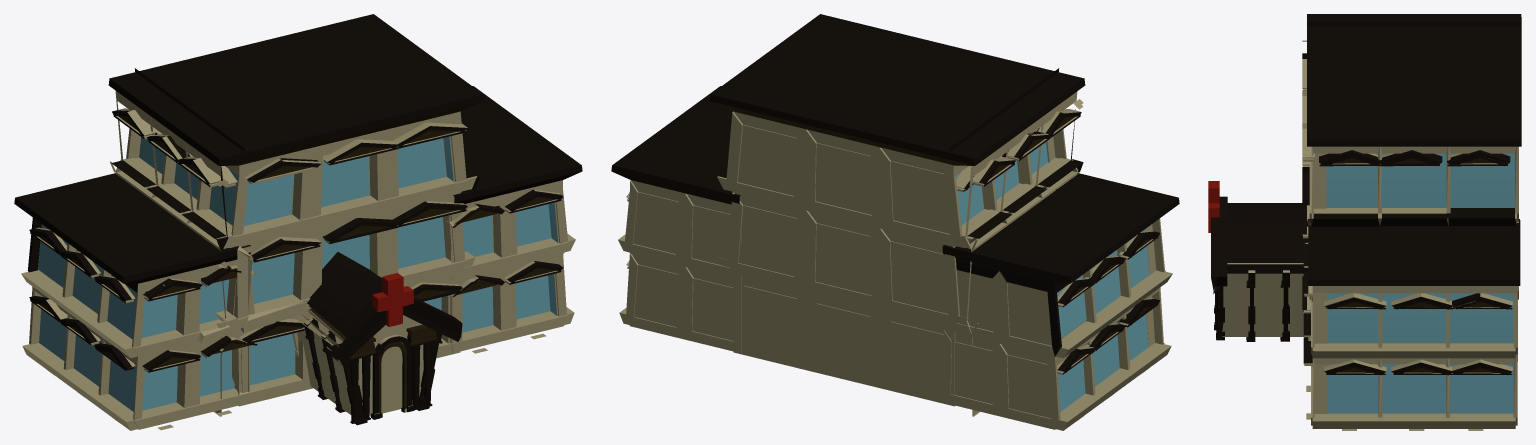
The model's file is Hospital.fbx.
3 views of the same model, side by side, from view 1: azimuth 30°, elevation 25°; view 2: azimuth 150°, elevation 25°; view 3: azimuth 270°, elevation 25° (orthographic). The views are drawn at different scales.
Parts seen in each view (by area): view 1: Box042; view 2: Box042; view 3: Box042.
Boxes of the visible parts, x1=… form: Box042: x1=14, y1=14, x2=582, y2=430; Box042: x1=611, y1=14, x2=1179, y2=430; Box042: x1=1208, y1=14, x2=1521, y2=430.
Bounding box in the file's own units: 1769 × 974 × 1072.
